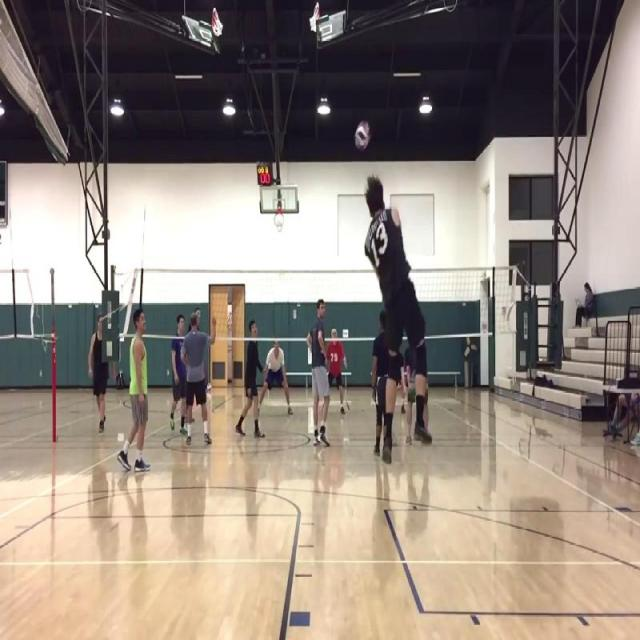volleyball: (355, 125, 368, 150)
